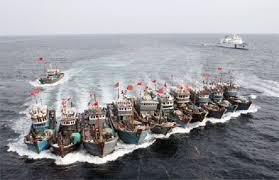Ship: (81, 97, 119, 158), (137, 87, 178, 135), (109, 99, 150, 145), (52, 99, 82, 158), (25, 106, 57, 154), (172, 87, 209, 123), (191, 82, 227, 119), (159, 96, 193, 128), (225, 76, 253, 111), (210, 84, 239, 113), (218, 34, 249, 51), (40, 70, 65, 85)
